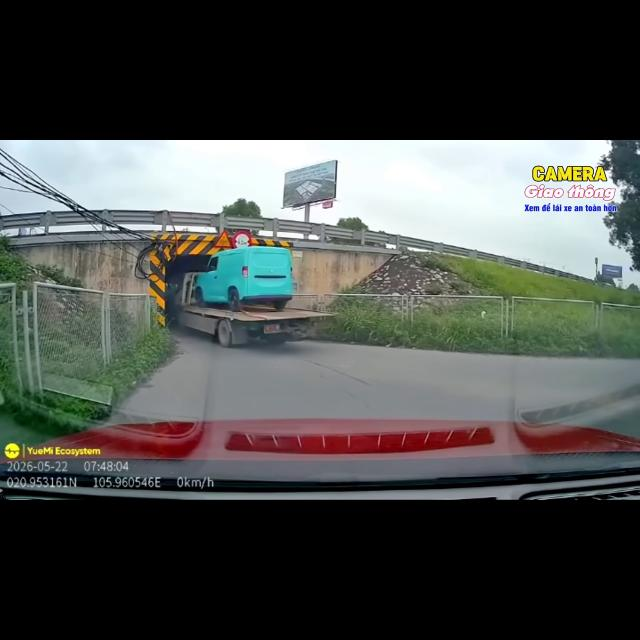car: (195, 246, 293, 311)
truck: (170, 272, 333, 347)
